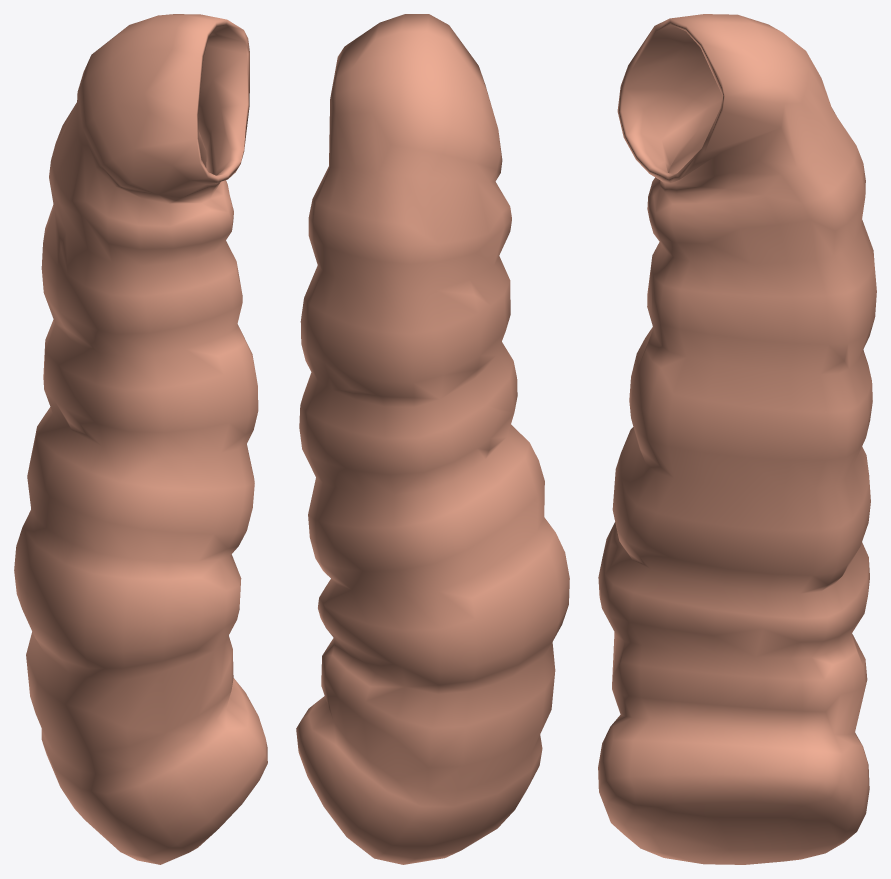
File: visceras-ascending-colon.glb
3 renders of one model, left to right at view 1: azimuth 30°, elevation 25°; view 2: azimuth 150°, elevation 25°; view 3: azimuth 270°, elevation 25°, orthographic. The views are drawn at different scales.
Visible parts, largest first — view 1: Ascending colon; view 2: Ascending colon; view 3: Ascending colon.
Part boxes in pixels (x1=…): Ascending colon: x1=14, y1=14, x2=267, y2=864; Ascending colon: x1=296, y1=14, x2=569, y2=864; Ascending colon: x1=598, y1=14, x2=876, y2=864.
Bounding box in the file's own units: 0.0514 × 0.1919 × 0.056.
